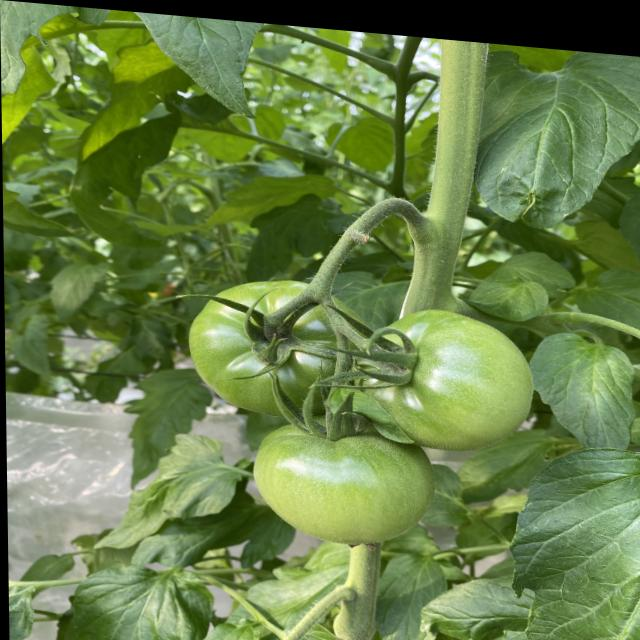yesil: (163, 246, 616, 589)
